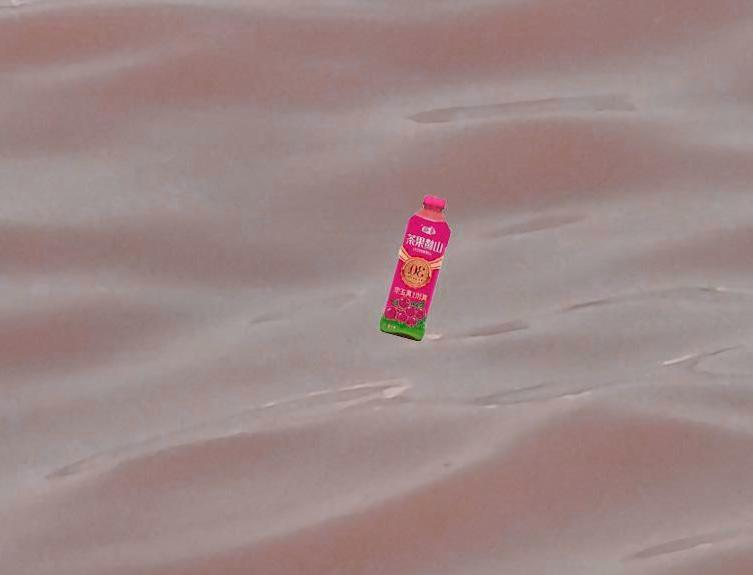Plastic: (378, 189, 455, 346)
